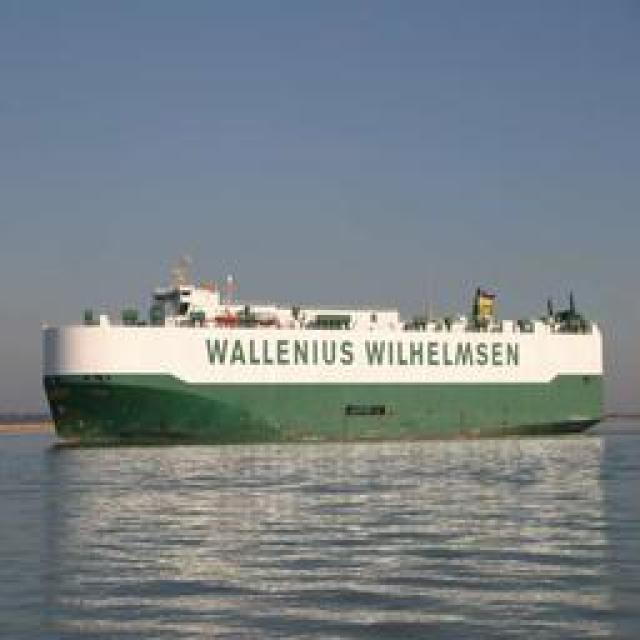ship2: (41, 254, 605, 446)
